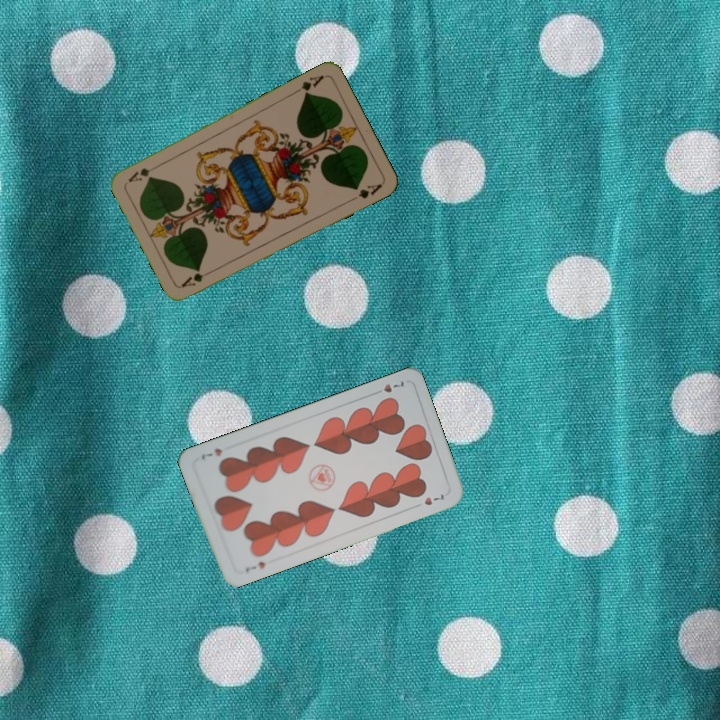GA: (290, 71, 326, 98), (177, 266, 216, 290)
H7: (369, 376, 406, 398), (241, 557, 268, 575)
